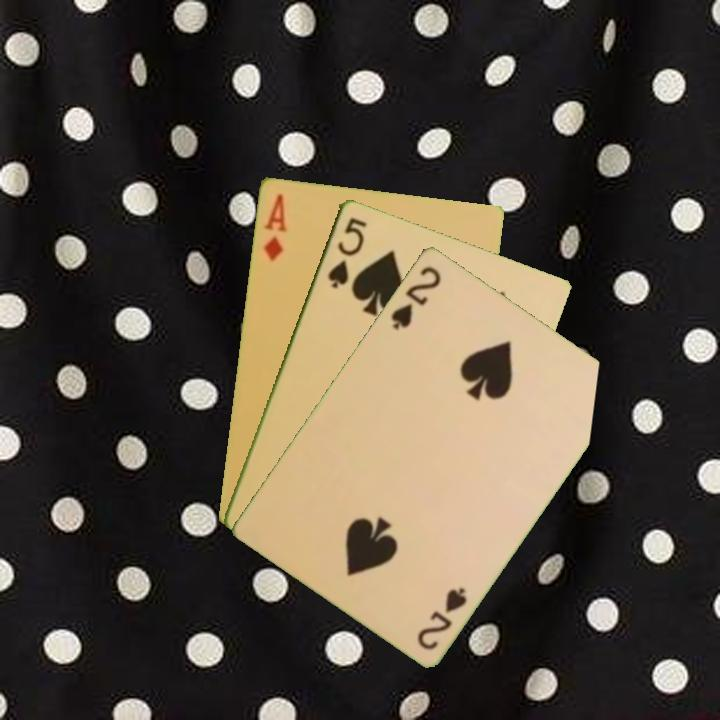2s: (387, 262, 444, 333), (413, 583, 470, 653)
5s: (324, 213, 369, 291)
Ad: (259, 189, 289, 263)
